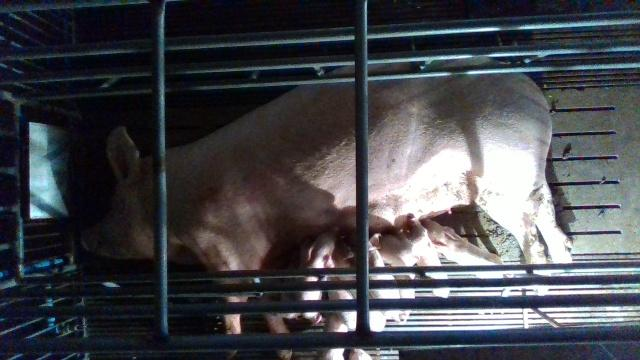piglet: (342, 232, 406, 324), (423, 220, 513, 280), (293, 226, 338, 325), (406, 216, 450, 298)
sow-sleep-lactate: (81, 58, 574, 360)
